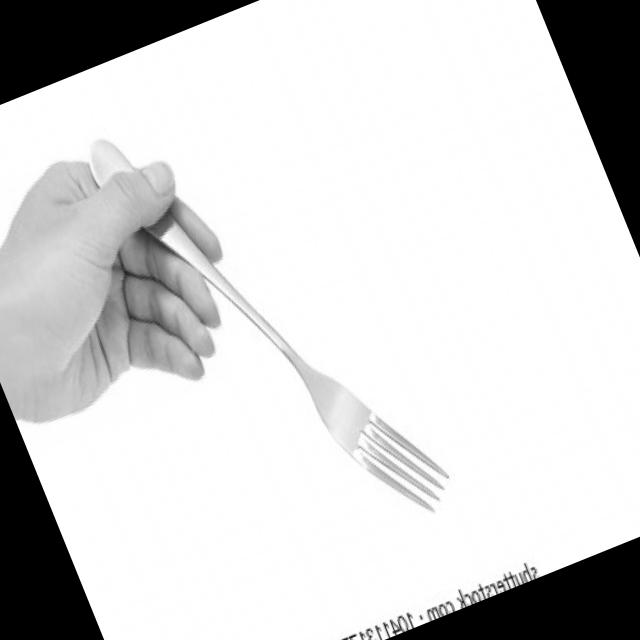fork: (80, 63, 462, 585)
